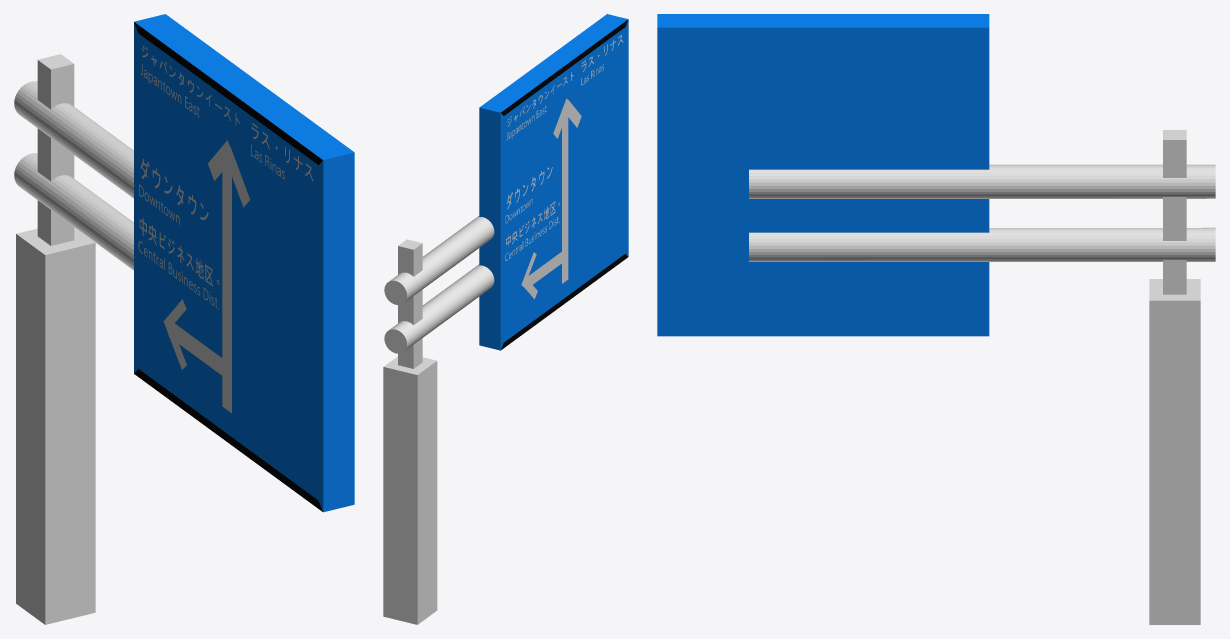
The model's file is japantown_sign_1.fbx.
The picture shows the model from 3 angles, left to right: view 1: azimuth 30°, elevation 25°; view 2: azimuth 150°, elevation 25°; view 3: azimuth 270°, elevation 25°; orthographic projection. The views are drawn at different scales.
Parts seen in each view (by area): view 1: Cube.003, Cube, Cylinder, Cylinder.001, Plane, Plane.001, Text.007, Plane.005; view 2: Cube.003, Cube, Cylinder.001, Cylinder, Plane, Plane.001; view 3: Cube.003, Cube, Cylinder, Cylinder.001.
Part boxes in pixels (left/top/right/bottom): Cube.003: left=134, top=14, right=354, bottom=512; Cube: left=16, top=54, right=95, bottom=624; Cylinder: left=14, top=81, right=133, bottom=198; Cylinder.001: left=14, top=153, right=133, bottom=270; Plane: left=222, top=165, right=231, bottom=413; Plane.001: left=168, top=320, right=222, bottom=375; Text.007: left=139, top=218, right=219, bottom=286; Plane.005: left=208, top=140, right=233, bottom=180; Cube.003: left=479, top=14, right=628, bottom=350; Cube: left=383, top=239, right=437, bottom=624; Cylinder.001: left=384, top=264, right=494, bottom=353; Cylinder: left=384, top=216, right=494, bottom=304; Plane: left=562, top=115, right=568, bottom=283; Plane.001: left=525, top=252, right=561, bottom=289; Cube.003: left=657, top=14, right=989, bottom=336; Cube: left=1149, top=130, right=1200, bottom=624; Cylinder: left=749, top=164, right=1215, bottom=198; Cylinder.001: left=749, top=227, right=1215, bottom=261.
Size of the model in its own units: 6.54 by 76.11 by 65.5.
